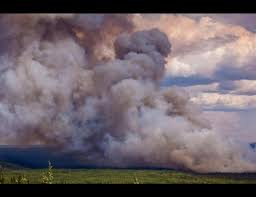smoke: (1, 12, 256, 168)
